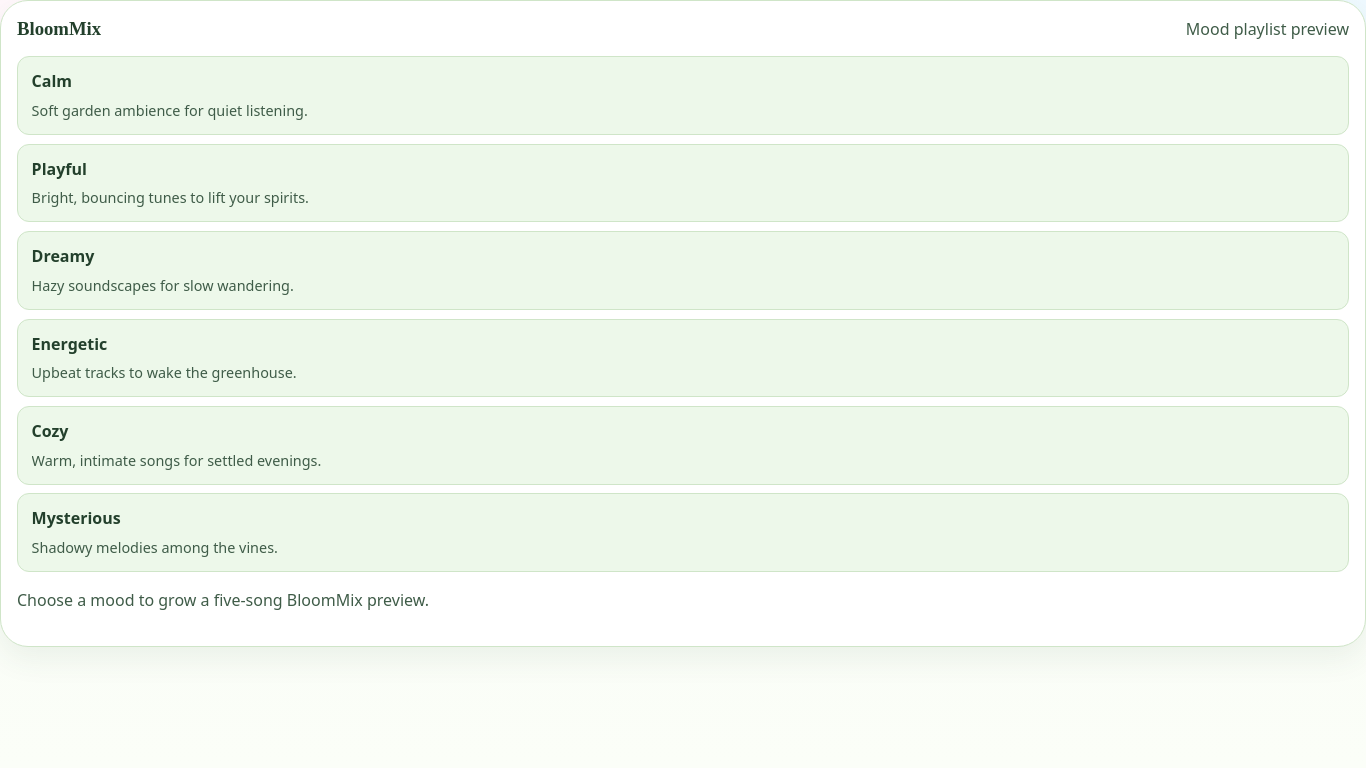
Test: BloomMixPanel › shows a helpful load error without raw server details
Click the button "Mysterious Shadowy melodies among the vines." at (76, 518), box [17, 493, 1349, 572]
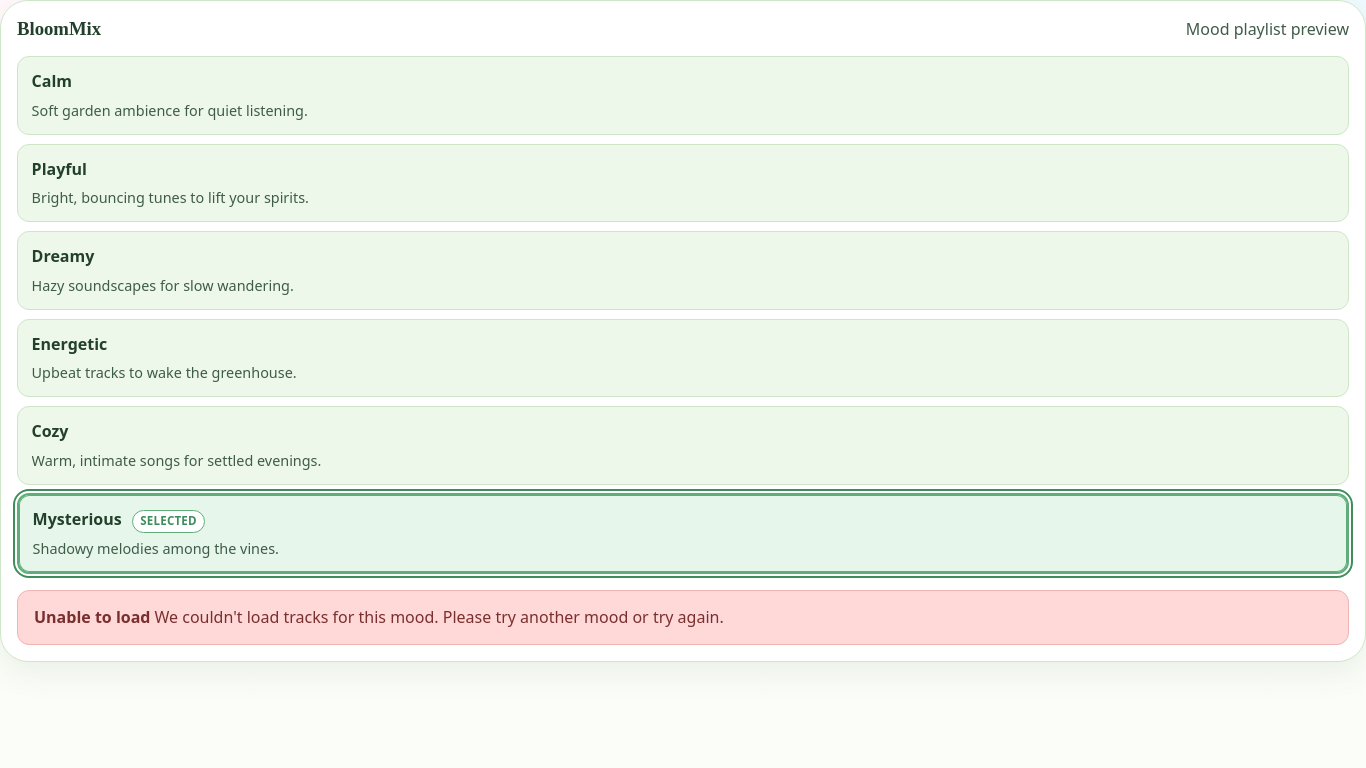
Check: the message does not show "SQLSTATE", box [17, 590, 1349, 645]
Check: the message shows "couldn't load tracks for this mood", box [154, 606, 724, 628]
